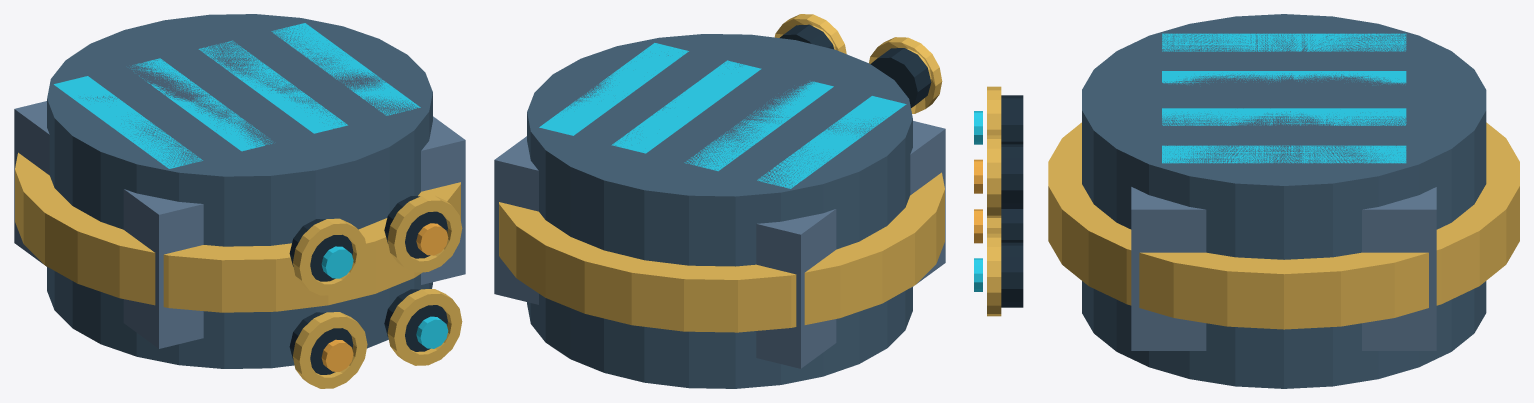
File: 38_L83_BatteryCurrentHallSensor.fbx
3 views of the same model, side by side, from view 1: azimuth 30°, elevation 25°; view 2: azimuth 150°, elevation 25°; view 3: azimuth 270°, elevation 25° (orthographic). The views are drawn at different scales.
Parts seen in each view (by area): view 1: BatteryCurrentHallSensor, BatteryCurrentHallSensor_Part_0002, BatteryCurrentHallSensor_Part_0003, BatteryCurrentHallSensor_Part_0005, BatteryCurrentHallSensor_Part_0006, BatteryCurrentHallSensor_Part_0004; view 2: BatteryCurrentHallSensor, BatteryCurrentHallSensor_Part_0002, BatteryCurrentHallSensor_Part_0005, BatteryCurrentHallSensor_Part_0003, BatteryCurrentHallSensor_Part_0006, BatteryCurrentHallSensor_Part_0004; view 3: BatteryCurrentHallSensor, BatteryCurrentHallSensor_Part_0002, BatteryCurrentHallSensor_Part_0003, BatteryCurrentHallSensor_Part_0006, BatteryCurrentHallSensor_Part_0005, BatteryCurrentHallSensor_Part_0004.
Part boxes in pixels (x1,y1,x2,y2): BatteryCurrentHallSensor: (15, 14, 462, 388); BatteryCurrentHallSensor_Part_0002: (14, 101, 465, 348); BatteryCurrentHallSensor_Part_0003: (54, 76, 202, 168); BatteryCurrentHallSensor_Part_0005: (198, 40, 347, 133); BatteryCurrentHallSensor_Part_0006: (271, 23, 420, 115); BatteryCurrentHallSensor_Part_0004: (130, 58, 272, 151); BatteryCurrentHallSensor: (499, 14, 944, 388); BatteryCurrentHallSensor_Part_0002: (494, 121, 945, 368); BatteryCurrentHallSensor_Part_0005: (611, 60, 761, 153); BatteryCurrentHallSensor_Part_0003: (757, 96, 906, 188); BatteryCurrentHallSensor_Part_0006: (539, 43, 688, 135); BatteryCurrentHallSensor_Part_0004: (684, 81, 833, 171); BatteryCurrentHallSensor: (974, 14, 1519, 388); BatteryCurrentHallSensor_Part_0002: (1131, 187, 1436, 350); BatteryCurrentHallSensor_Part_0003: (1162, 33, 1406, 51); BatteryCurrentHallSensor_Part_0006: (1162, 145, 1406, 163); BatteryCurrentHallSensor_Part_0005: (1162, 108, 1406, 125); BatteryCurrentHallSensor_Part_0004: (1162, 71, 1406, 85).
Bounding box in the file's own units: 70 × 33 × 80.44.
